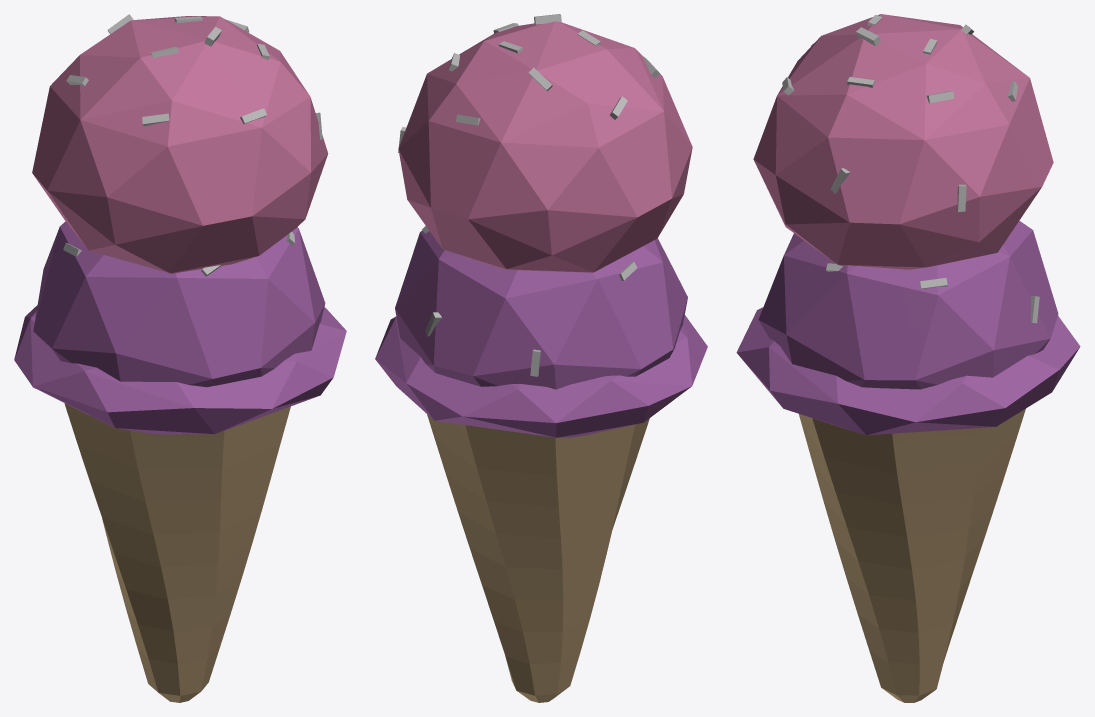
Rendered from IceCream_2.glb.
3 renders of one model, left to right at view 1: azimuth 30°, elevation 25°; view 2: azimuth 150°, elevation 25°; view 3: azimuth 270°, elevation 25°, orthographic.
Visible parts, largest first — view 1: IceCream_2; view 2: IceCream_2; view 3: IceCream_2.
Part boxes in pixels (x1,y1,x2,y2): IceCream_2: (14, 14, 346, 702); IceCream_2: (375, 14, 707, 702); IceCream_2: (736, 14, 1080, 702).
Bounding box in the file's own units: 0.7296 × 1.57 × 0.7296.
